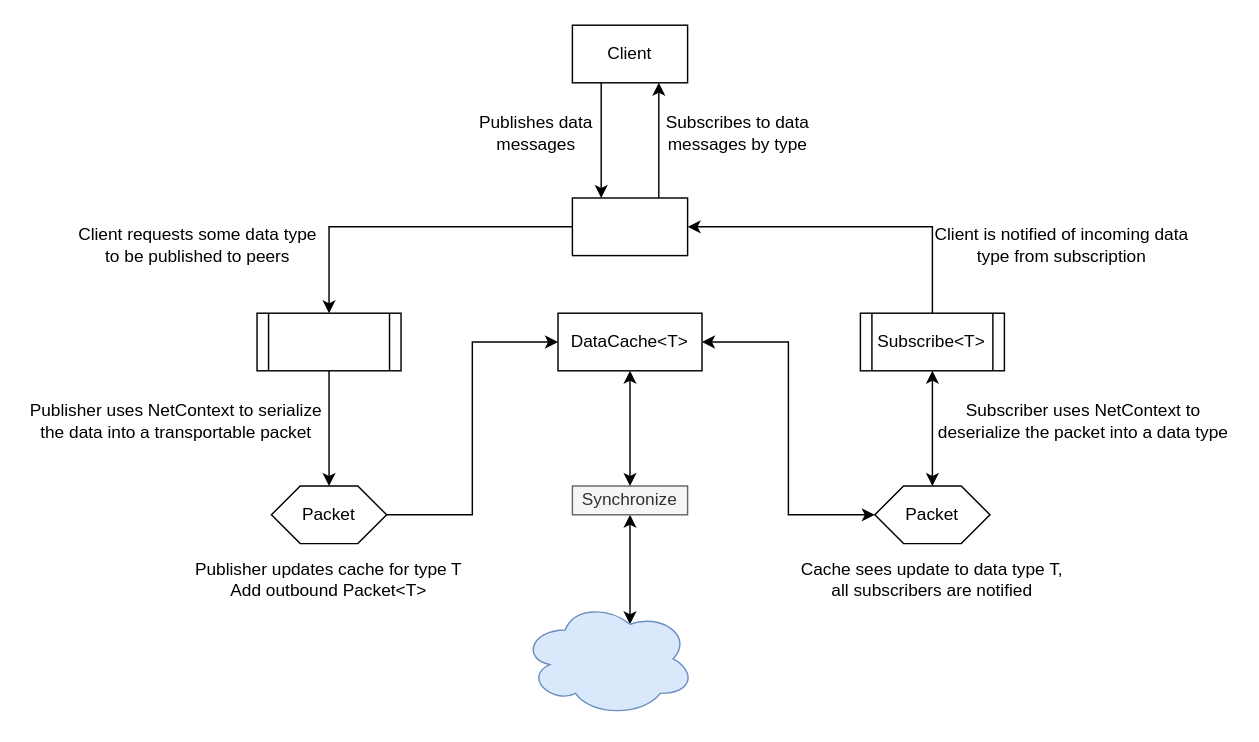
This 1259x742 diagram has some shape labels left out. Each missing label, with the centre of its shape:
Network: the point at 608,658
Publish<T>: the point at 328,341
PubSub: the point at 629,226
